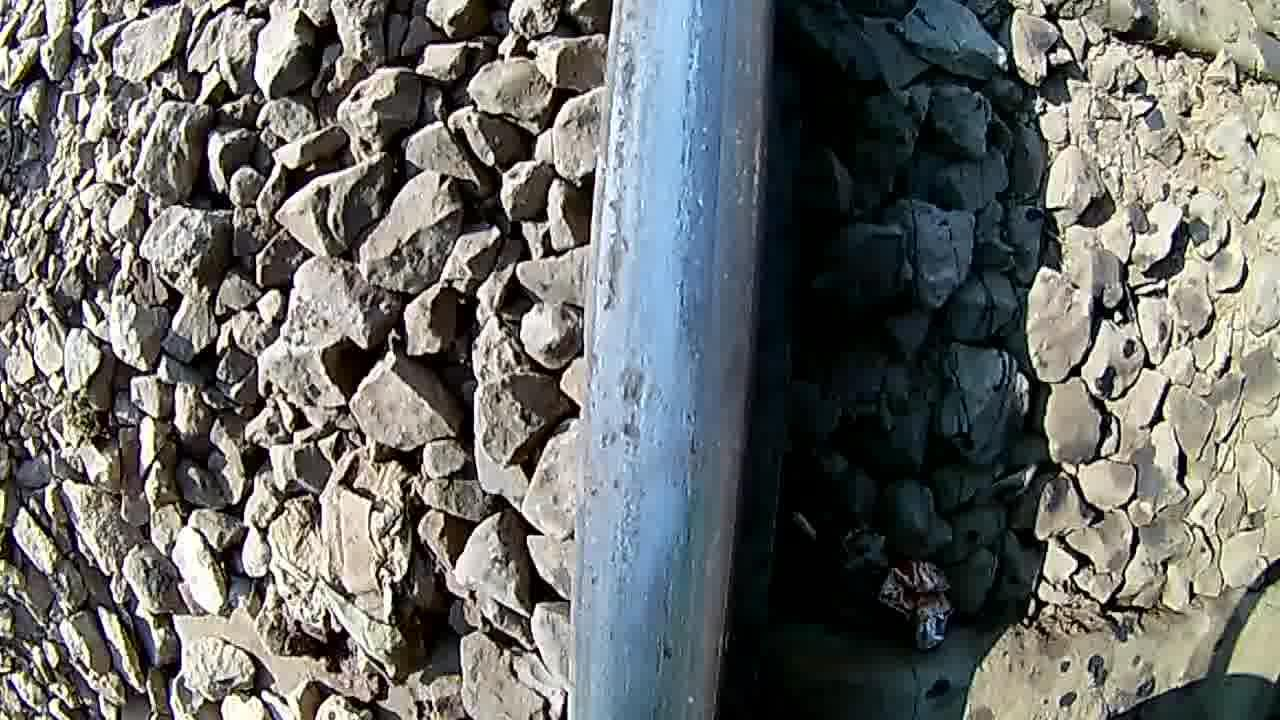crack: (590, 0, 760, 720)
